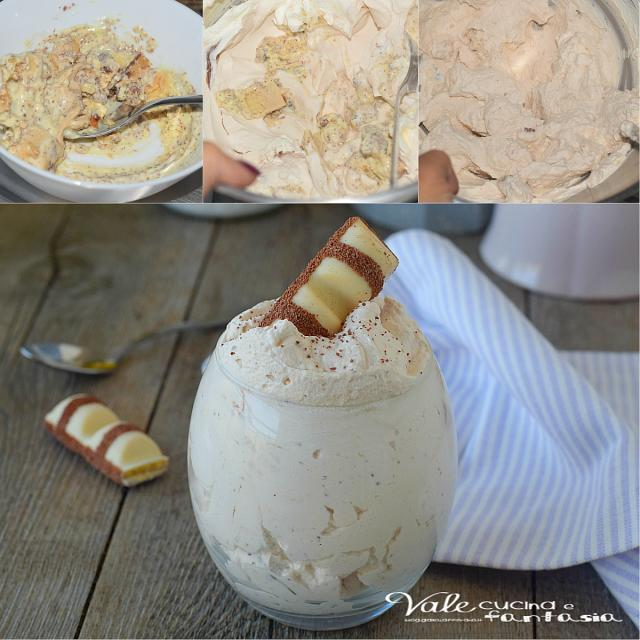Chocolate bar packaged: (254, 214, 399, 350), (41, 391, 169, 493)
